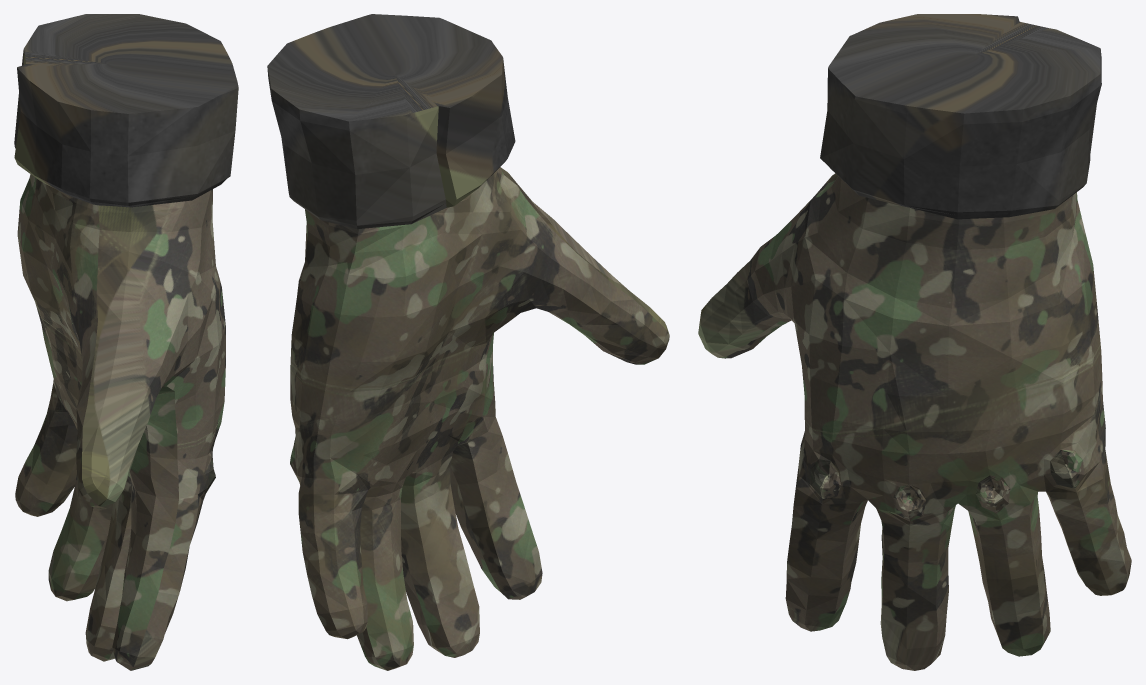
File: glove_left_open.obj
The picture shows the model from 3 angles, left to right: view 1: azimuth 30°, elevation 25°; view 2: azimuth 150°, elevation 25°; view 3: azimuth 270°, elevation 25°; orthographic projection. The views are drawn at different scales.
Size of the model in its own units: 0.1121 by 0.2413 by 0.151.
1 material, 1 textured.
